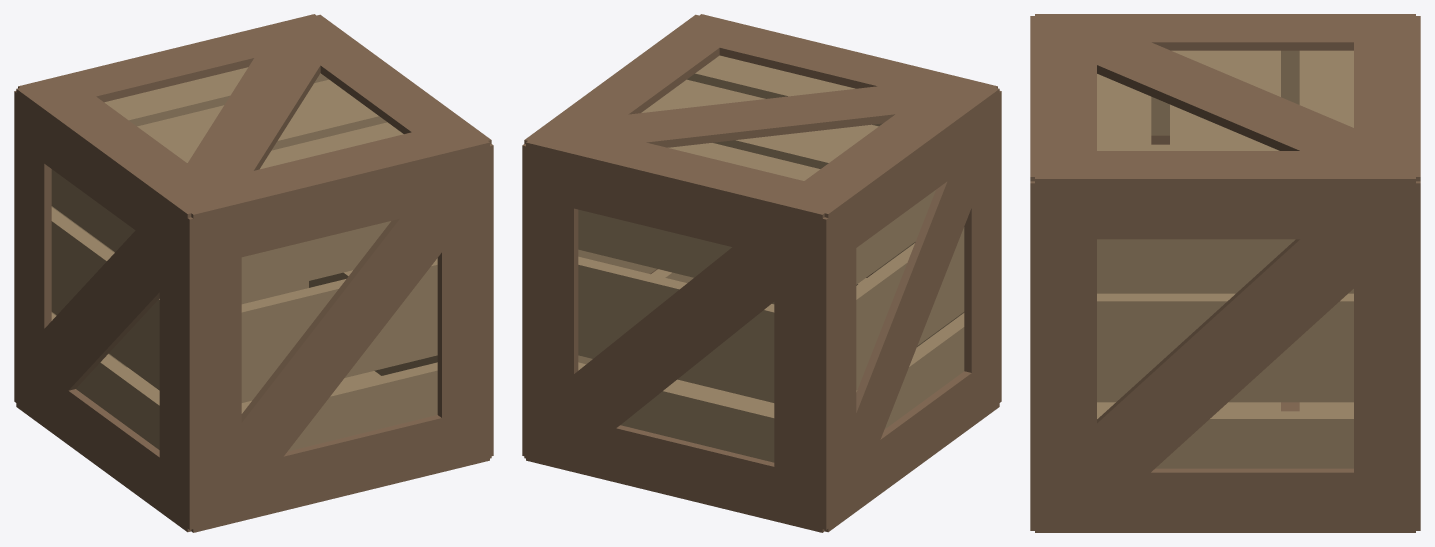
3 views of the same model, side by side, from view 1: azimuth 30°, elevation 25°; view 2: azimuth 150°, elevation 25°; view 3: azimuth 270°, elevation 25° (orthographic). The views are drawn at different scales.
Parts seen in each view (by area): view 1: ExternalBox, InternalBox; view 2: ExternalBox, InternalBox; view 3: ExternalBox, InternalBox.
Boxes of the visible parts, x1,y1,x2,y2 form: ExternalBox: (14,14,493,532); InternalBox: (51,67,437,451); ExternalBox: (522,14,1001,532); InternalBox: (578,55,964,462); ExternalBox: (1030,14,1420,532); InternalBox: (1097,50,1353,468).
Size of the model in its own units: 100 by 100 by 100.
